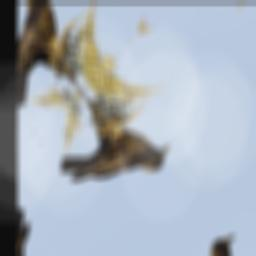Crow: (53, 84, 178, 231)
